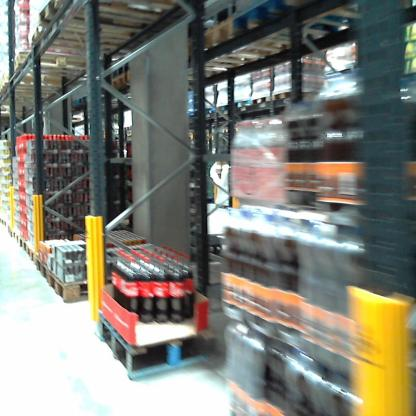pallet: (93, 282, 220, 379), (187, 17, 346, 77), (234, 1, 359, 68), (23, 16, 157, 62), (35, 1, 168, 43), (49, 255, 153, 304), (9, 48, 105, 87), (269, 81, 334, 103), (228, 97, 250, 124), (34, 250, 48, 287), (250, 91, 272, 111), (210, 101, 233, 119), (112, 69, 126, 97), (18, 230, 29, 255), (25, 240, 34, 268)
